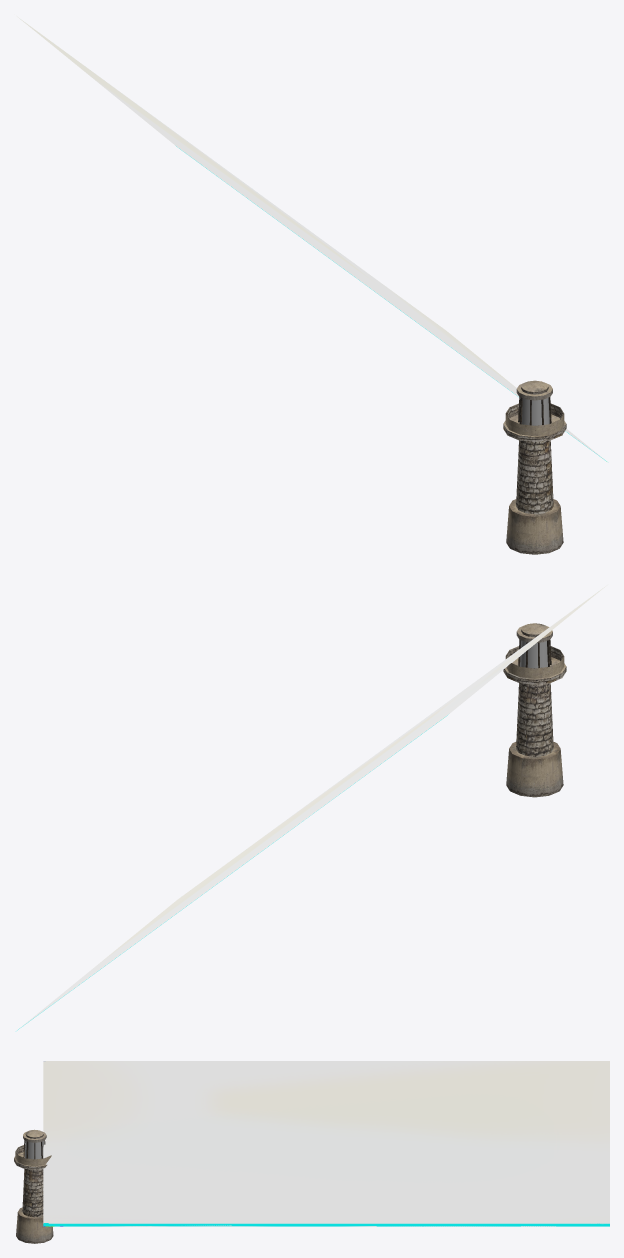
The model's file is lighttower.fbx.
The picture shows the model from 3 angles, top to bottom: view 1: azimuth 30°, elevation 25°; view 2: azimuth 150°, elevation 25°; view 3: azimuth 270°, elevation 25°; orthographic projection. The views are drawn at different scales.
Parts seen in each view (by area): view 1: Lighttower, rotated_light; view 2: Lighttower, rotated_light; view 3: rotated_light, Lighttower.
Boxes of the visible parts, <box> form: Lighttower: <box>503,380,566,554</box>; rotated_light: <box>17,16,606,461</box>; Lighttower: <box>503,623,566,797</box>; rotated_light: <box>17,585,606,1030</box>; rotated_light: <box>43,1061,609,1226</box>; Lighttower: <box>14,1129,53,1243</box>.
Bounding box in the file's own units: 0.0993 × 0.1318 × 0.4786.
